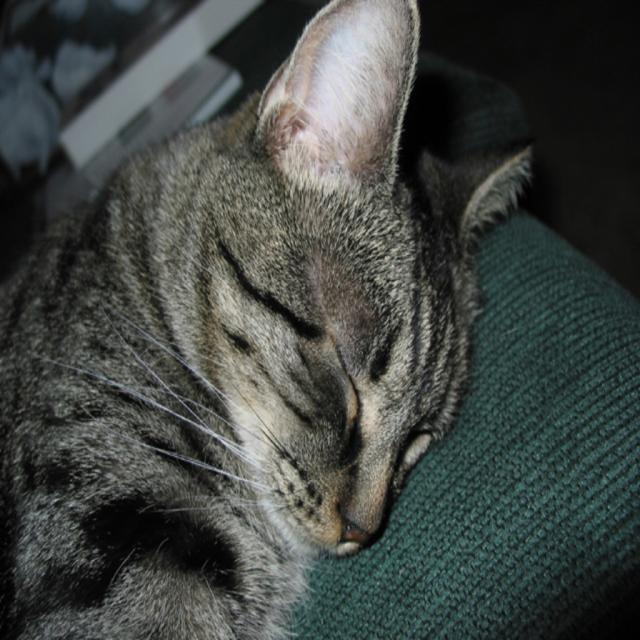Cat: (0, 0, 532, 637)
